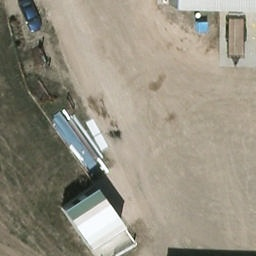car: (18, 0, 43, 33)
